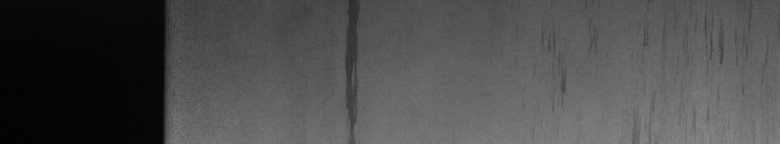hd: (339, 4, 363, 136)
